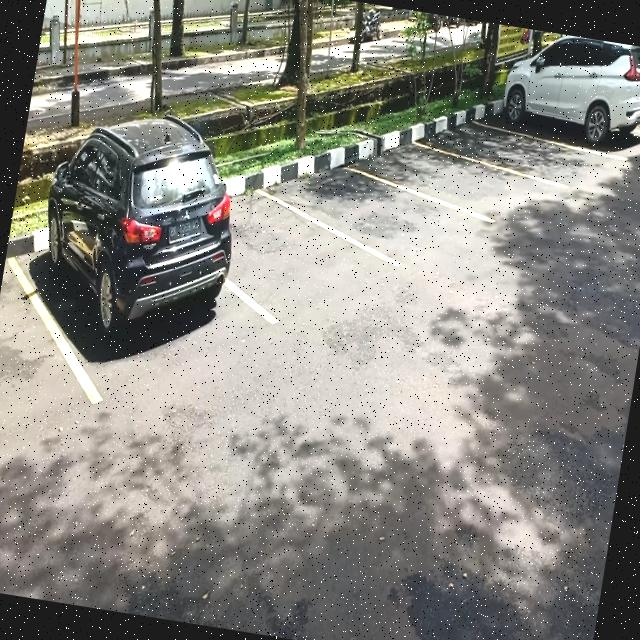empty: (222, 186, 362, 338), (310, 168, 430, 266), (448, 118, 594, 191), (390, 140, 506, 221)
occupied: (21, 156, 242, 415), (494, 47, 640, 157)
